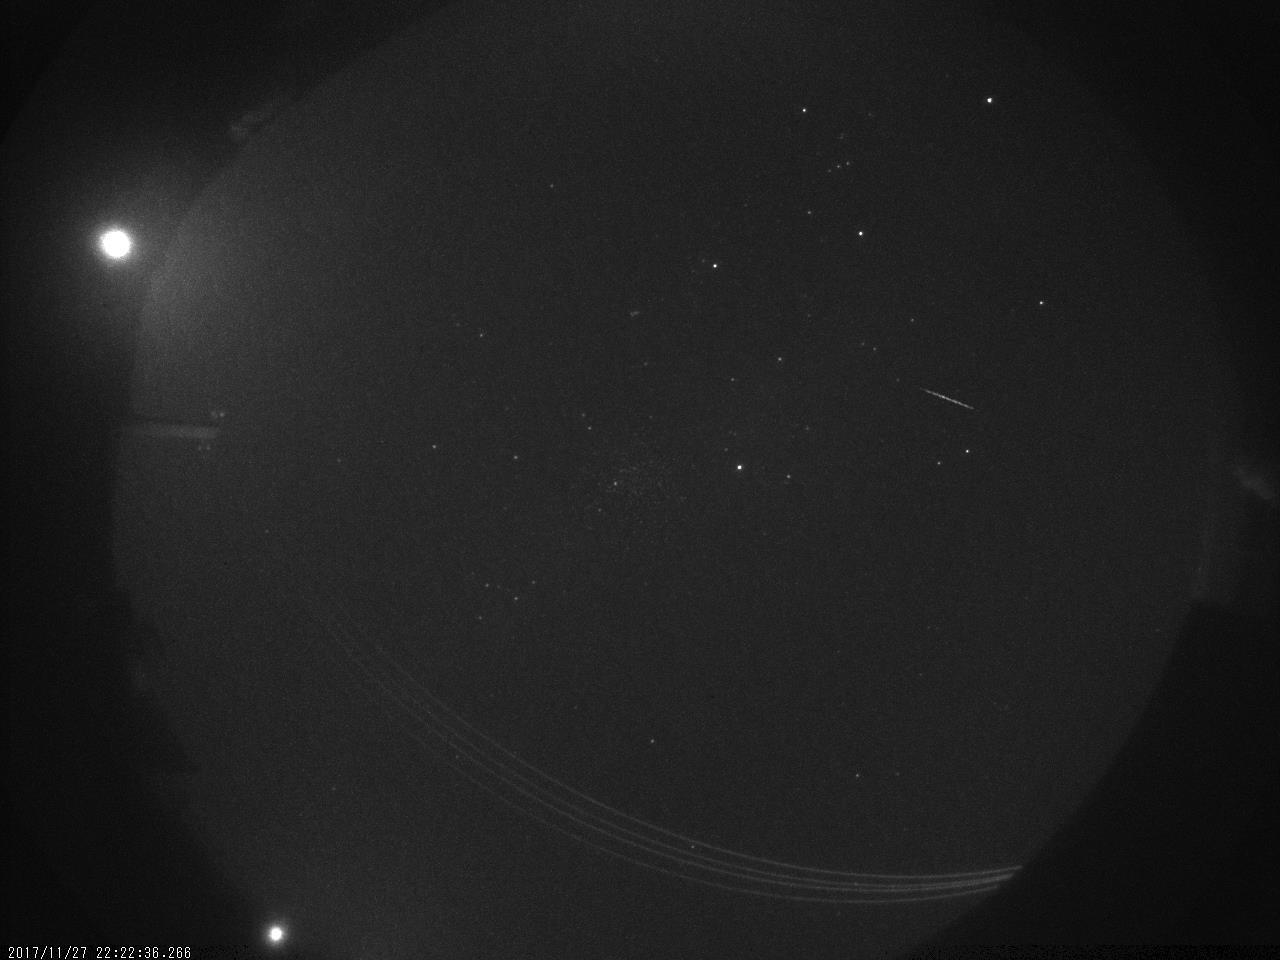Meteor: (909, 382, 981, 418)
